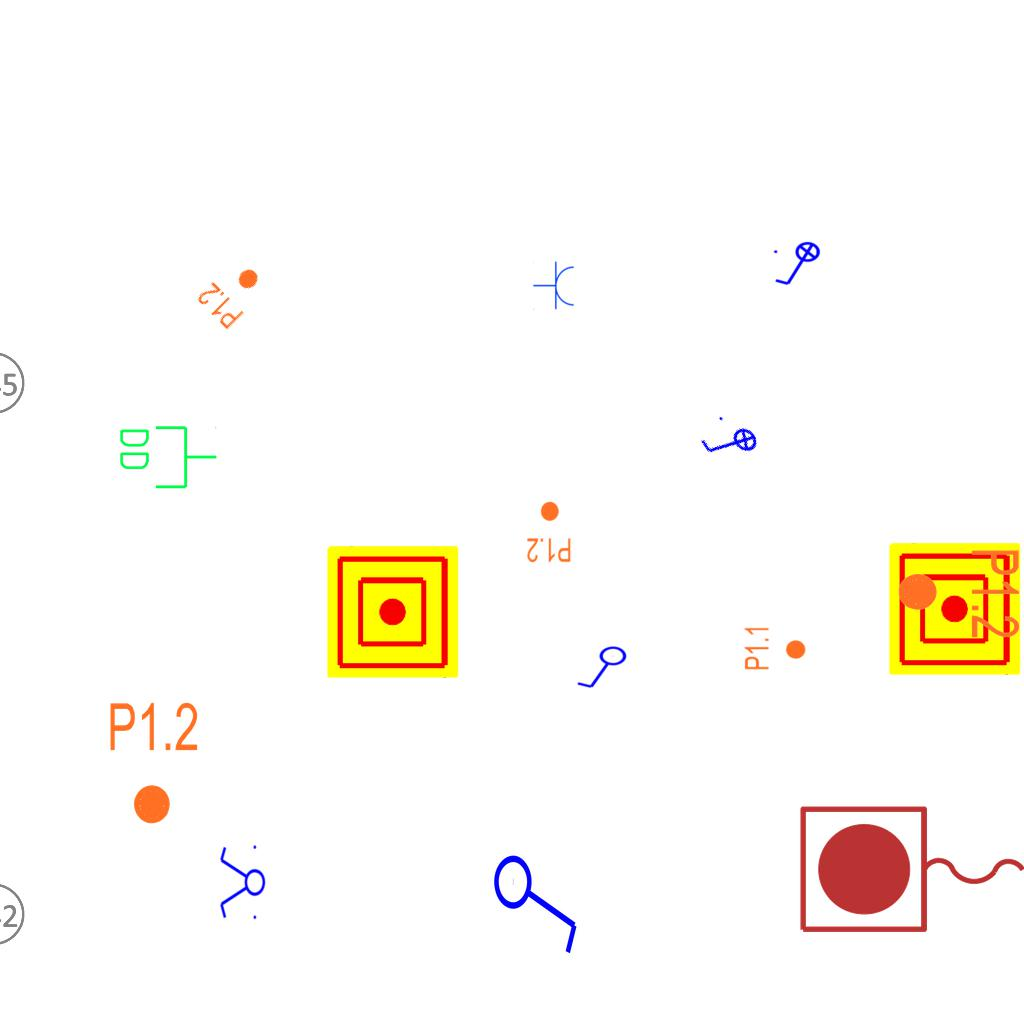Ausschalter: (491, 844, 587, 956), (576, 645, 632, 693)
Ausschalter_beleuchtet: (693, 407, 767, 481), (771, 241, 827, 289)
Datenanschluss_zweifach: (116, 422, 219, 491)
Downlight_LED_Einbauleuchten_Flur: (107, 699, 200, 827), (895, 547, 1023, 640), (194, 254, 272, 332), (526, 500, 572, 564)
Downlight_LED_Einbauleuchten_Flur_2: (743, 625, 807, 671)
NAM-Nichtautomatischer_Melder: (889, 543, 1021, 675), (327, 546, 459, 678)
Schukosteckdose_einfach: (533, 261, 576, 311)
Serienschalter: (218, 841, 266, 925)
Zugtaster: (792, 799, 1024, 943)
